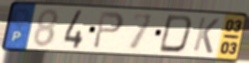4: (62, 8, 85, 51)
7: (127, 13, 154, 52)
8: (32, 7, 61, 49)
D: (157, 13, 195, 55)
K: (191, 16, 221, 55)
P: (91, 11, 126, 51)
